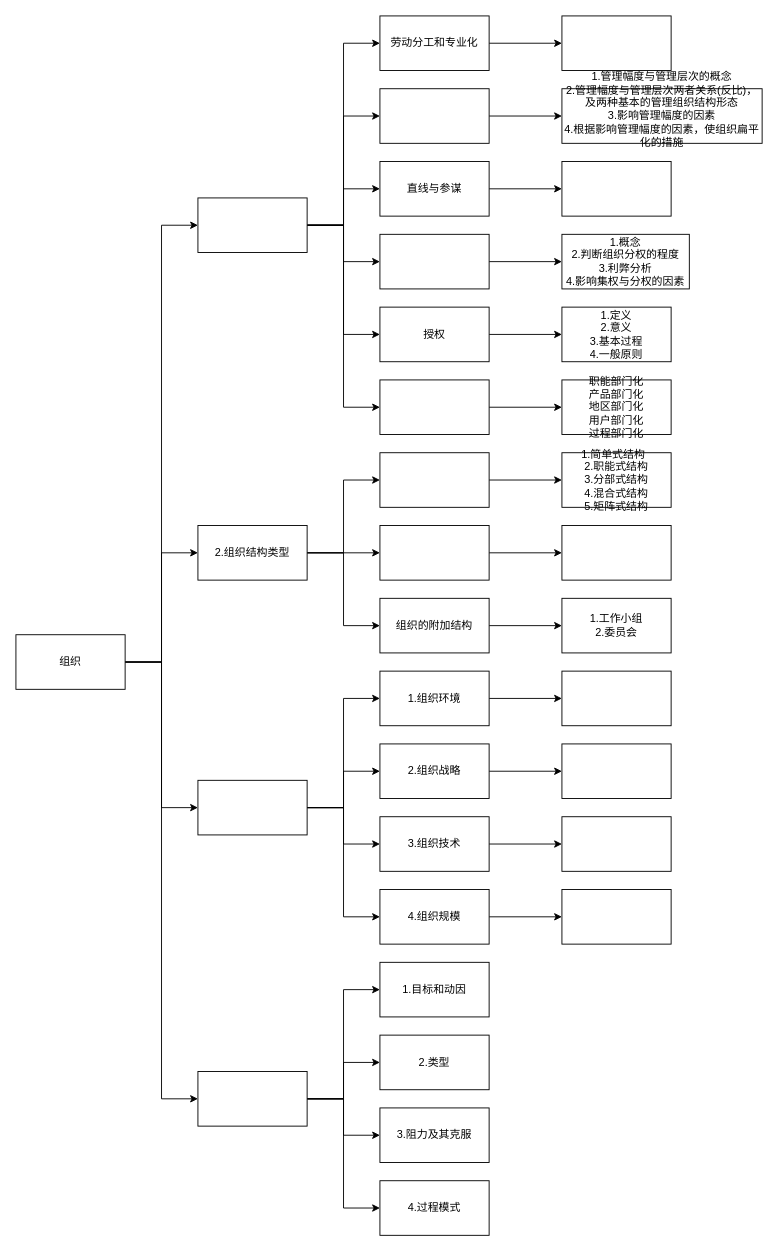
This 778x1251 diagram has some shape labels left out. The centre of each missing label's shape, as x and y in pixels:
1.概念 2.优点 3.过渡专业化的问题: the point at 616,43
1.概念 2.矛盾因素 3.正确发挥参谋的作用: the point at 616,188
1.组织的基础: the point at 252,225
3.组织设计的权变因素: the point at 252,807
4.组织变革: the point at 252,1098
典型的组织结构类型: the point at 434,479
刚性结构和柔性结构: the point at 434,552
管理幅度与管理层次: the point at 434,115
部门化: the point at 434,407
集权与分权: the point at 434,261
